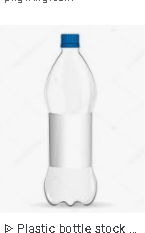Bottle: (47, 34, 99, 206)
